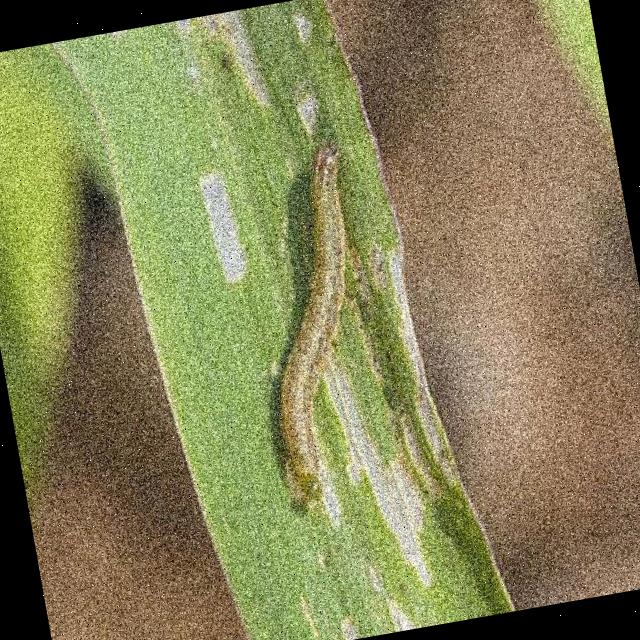worm: (227, 140, 403, 522)
